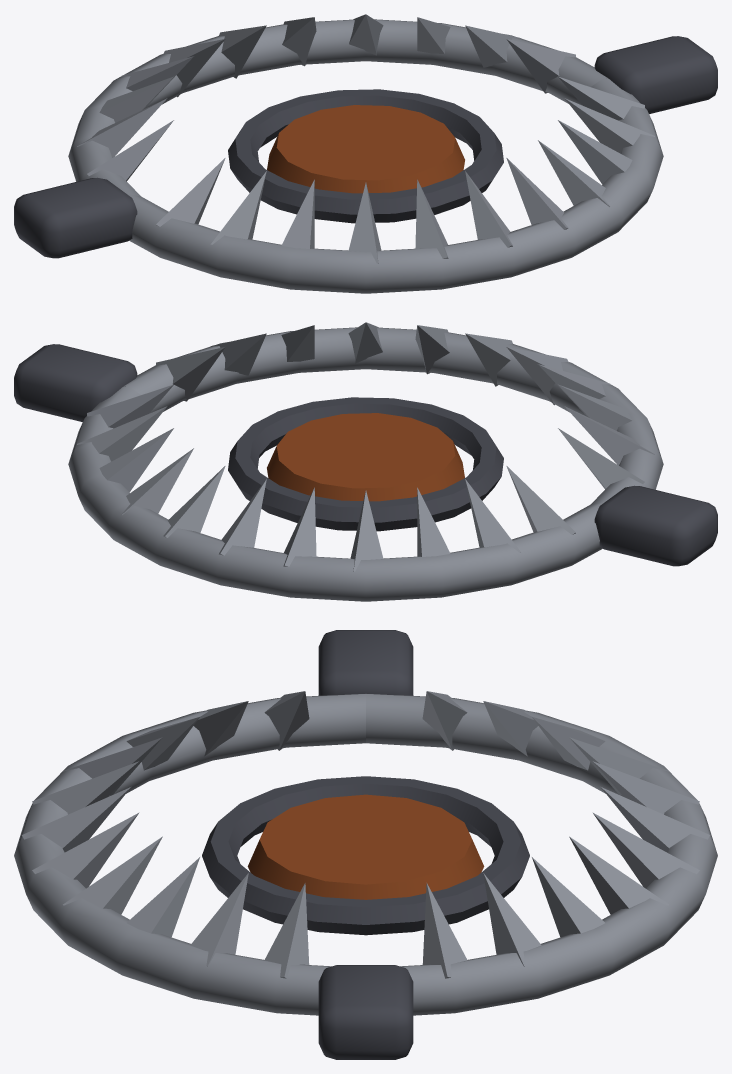
File: bear_trap.glb
3 renders of one model, top to bottom at view 1: azimuth 30°, elevation 25°; view 2: azimuth 150°, elevation 25°; view 3: azimuth 270°, elevation 25°, orthographic. The views are drawn at different scales.
Parts seen in each view (by area): view 1: JawNear, TrapBase, JawFar, TrapPlate; view 2: JawFar, TrapBase, JawNear, TrapPlate; view 3: JawFar, JawNear, TrapBase, TrapPlate.
Part boxes in pixels (left/top/right/bottom): JawNear: left=127, top=76, right=663, bottom=293; TrapBase: left=14, top=36, right=717, bottom=258; JawFar: left=68, top=14, right=607, bottom=196; TrapPlate: left=267, top=105, right=464, bottom=193; JawFar: left=68, top=384, right=604, bottom=601; TrapBase: left=14, top=344, right=717, bottom=566; JawNear: left=124, top=322, right=663, bottom=504; TrapPlate: left=267, top=413, right=464, bottom=501; JawFar: left=366, top=691, right=717, bottom=1015; JawNear: left=14, top=691, right=365, bottom=1015; TrapBase: left=202, top=630, right=529, bottom=1059; TrapPlate: left=247, top=794, right=484, bottom=899.
Bounding box in the file's own units: 1.56 × 0.1738 × 1.19.
